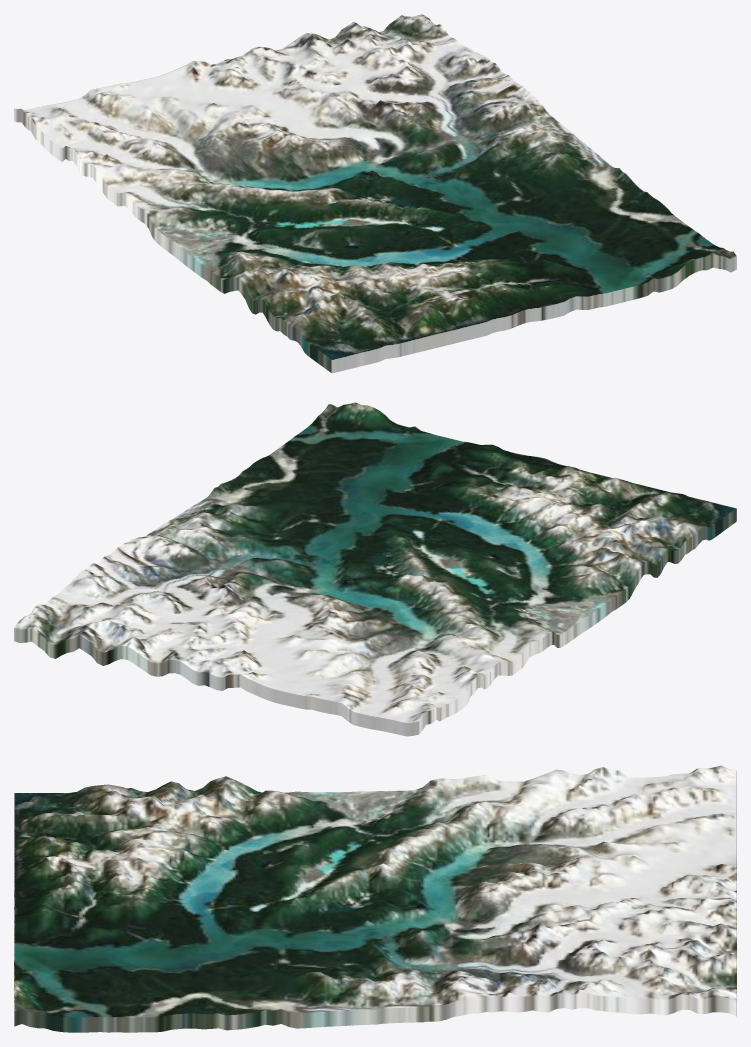
The picture shows the model from 3 angles, top to bottom: view 1: azimuth 30°, elevation 25°; view 2: azimuth 150°, elevation 25°; view 3: azimuth 270°, elevation 25°; orthographic projection. The views are drawn at different scales.
Visible parts, largest first — view 1: tile; view 2: tile; view 3: tile.
Boxes of the visible parts, left/top/right/bottom form: tile: left=14, top=14, right=736, bottom=373; tile: left=14, top=402, right=736, bottom=736; tile: left=14, top=765, right=736, bottom=1032.
Bounding box in the file's own units: 32399 × 3118 × 44040.
1 material, 1 textured.
